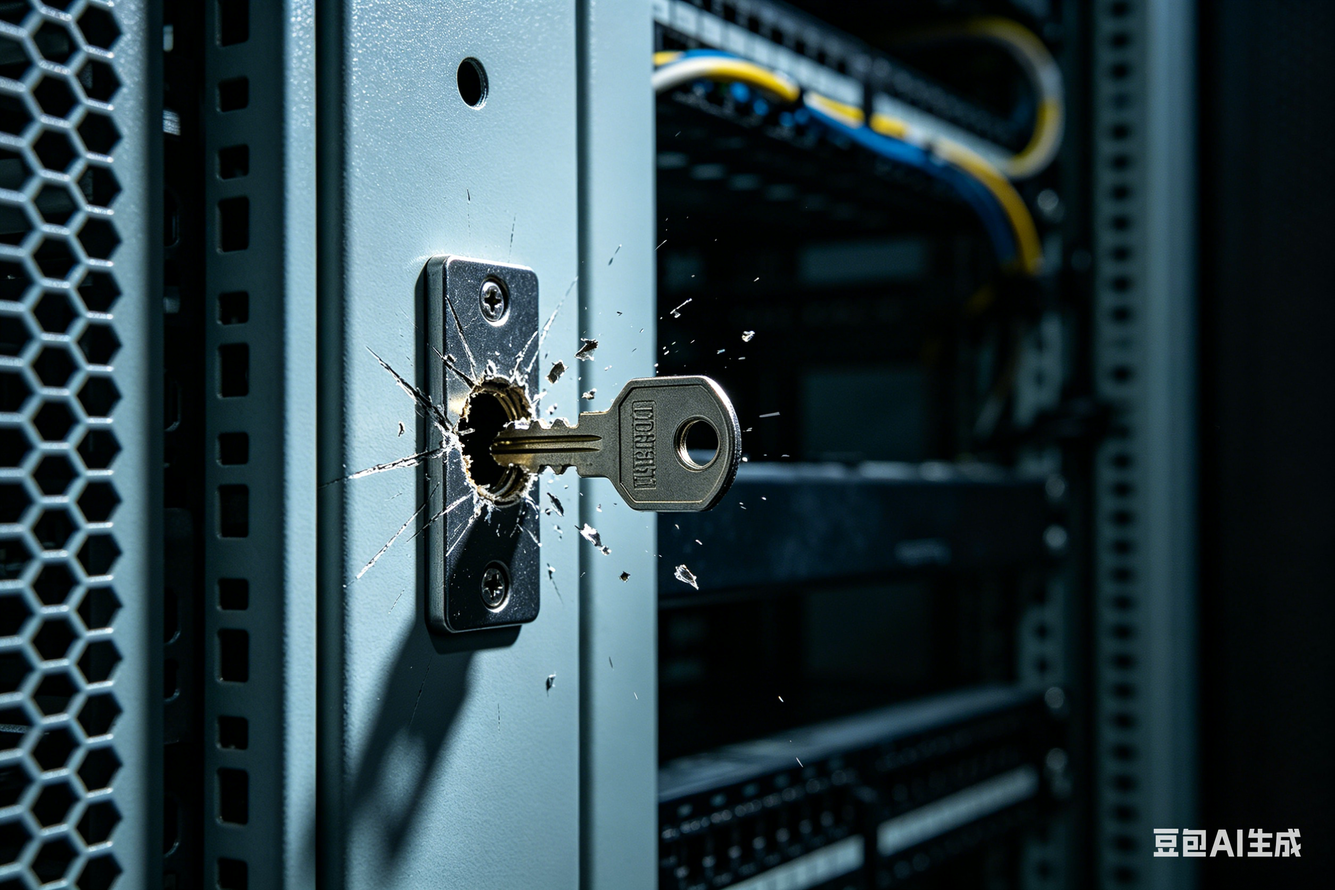BadLock: (433, 361, 556, 542)
